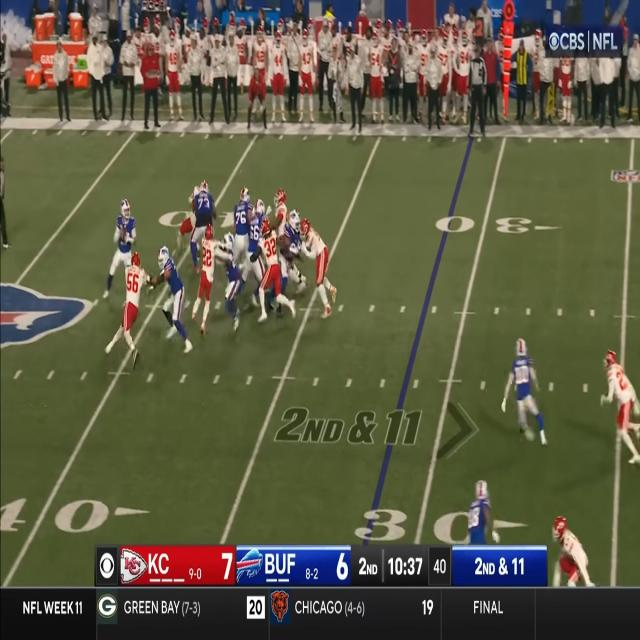Player: (603, 346, 640, 462), (510, 339, 544, 447), (302, 216, 331, 310), (158, 246, 184, 342), (553, 516, 589, 582), (262, 220, 282, 322), (125, 252, 142, 362), (281, 210, 297, 320), (200, 225, 217, 327), (222, 238, 239, 329), (468, 476, 489, 542), (114, 197, 134, 262), (248, 198, 262, 286), (234, 187, 249, 264), (195, 180, 213, 226), (274, 188, 286, 233)
Referee: (470, 45, 487, 144)
